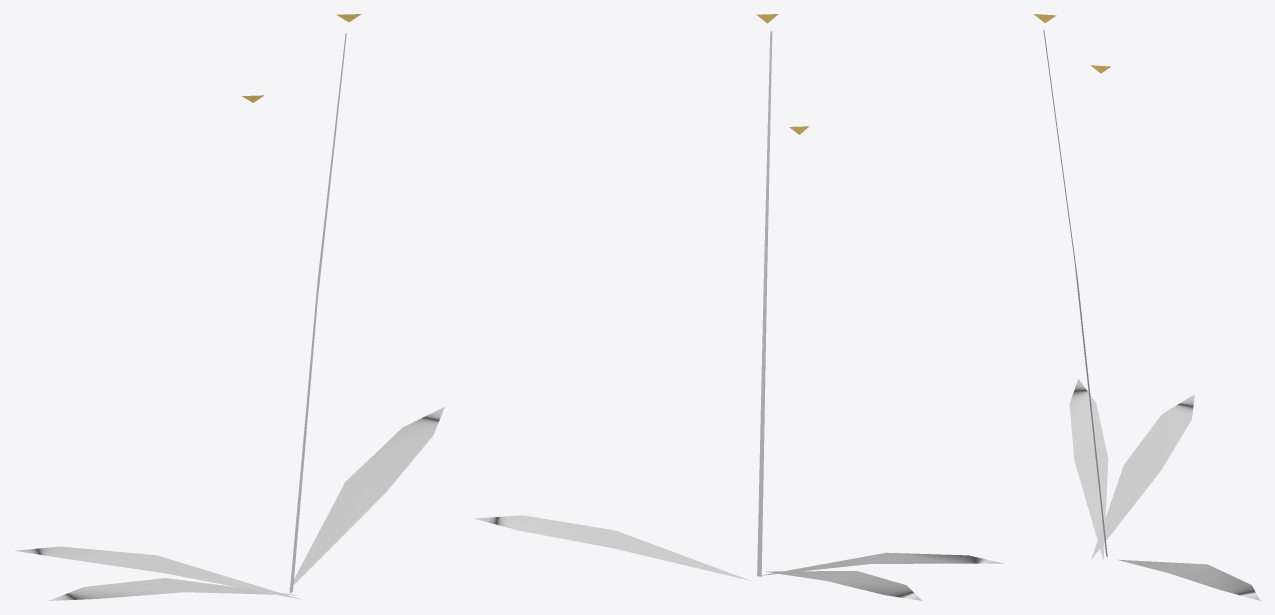
The model's file is RibwortPlantain_LOD3.glb.
3 views of the same model, side by side, from view 1: azimuth 30°, elevation 25°; view 2: azimuth 150°, elevation 25°; view 3: azimuth 270°, elevation 25° (orthographic). The views are drawn at different scales.
Visible parts, largest first — view 1: RibwortPlantain_LOD3; view 2: RibwortPlantain_LOD3; view 3: RibwortPlantain_LOD3.
Part boxes in pixels (box(x1,y1,x2,y2)): RibwortPlantain_LOD3: box(14, 14, 444, 600); RibwortPlantain_LOD3: box(474, 14, 1004, 600); RibwortPlantain_LOD3: box(1034, 14, 1260, 600).
Size of the model in its own units: 1.2 by 1.39 by 0.5159.
